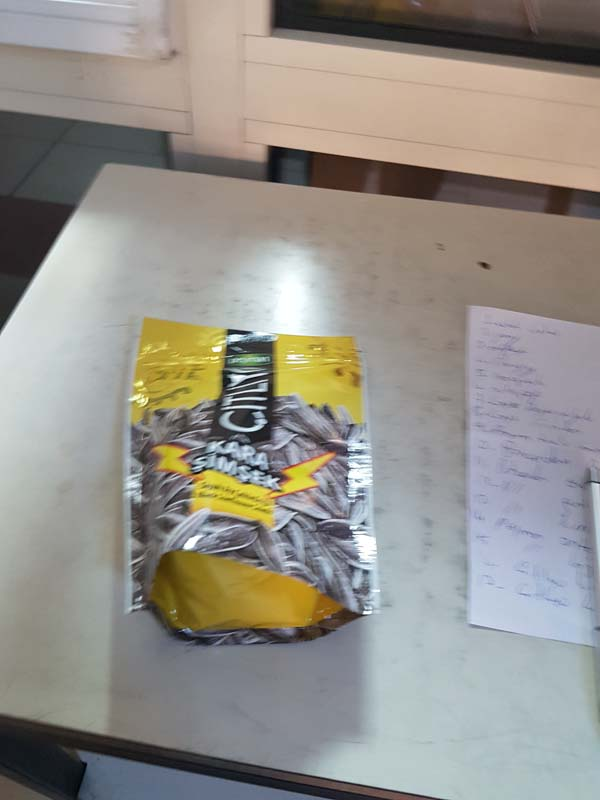citliyokarasimsek: (113, 304, 386, 652)
